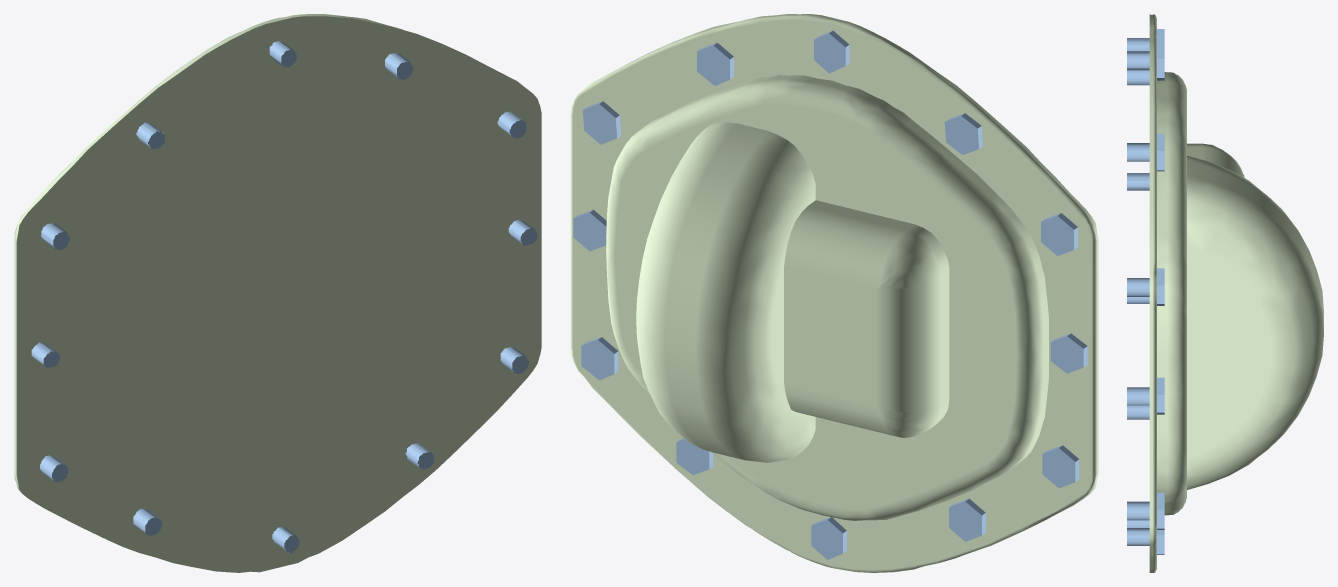
File: Differential cover isolated.gltf
3 renders of one model, left to right at view 1: azimuth 30°, elevation 25°; view 2: azimuth 150°, elevation 25°; view 3: azimuth 270°, elevation 25°, orthographic. The views are drawn at different scales.
Parts seen in each view (by area): view 1: Cover; view 2: Cover, Bolts (×12); view 3: Cover, Bolts (×10).
Part boxes in pixels (x1,y1,x2,y2): Cover: [14, 14, 541, 572]; Cover: [570, 14, 1098, 572]; Bolts (×12): [573, 30, 1087, 559]; Cover: [1149, 14, 1323, 572]; Bolts (×10): [1127, 29, 1164, 554].
Size of the model in its own units: 38.2 by 38 by 13.1.
